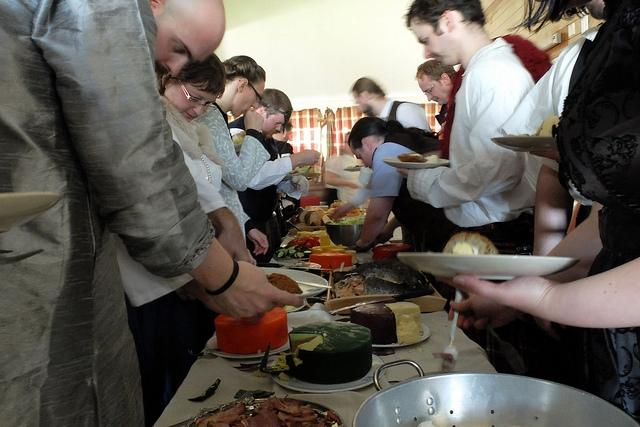cucumber: (276, 251, 284, 258), (304, 250, 312, 256), (284, 249, 290, 257), (296, 252, 304, 258), (278, 248, 286, 252), (288, 250, 296, 254), (297, 248, 302, 250), (296, 250, 300, 252)
